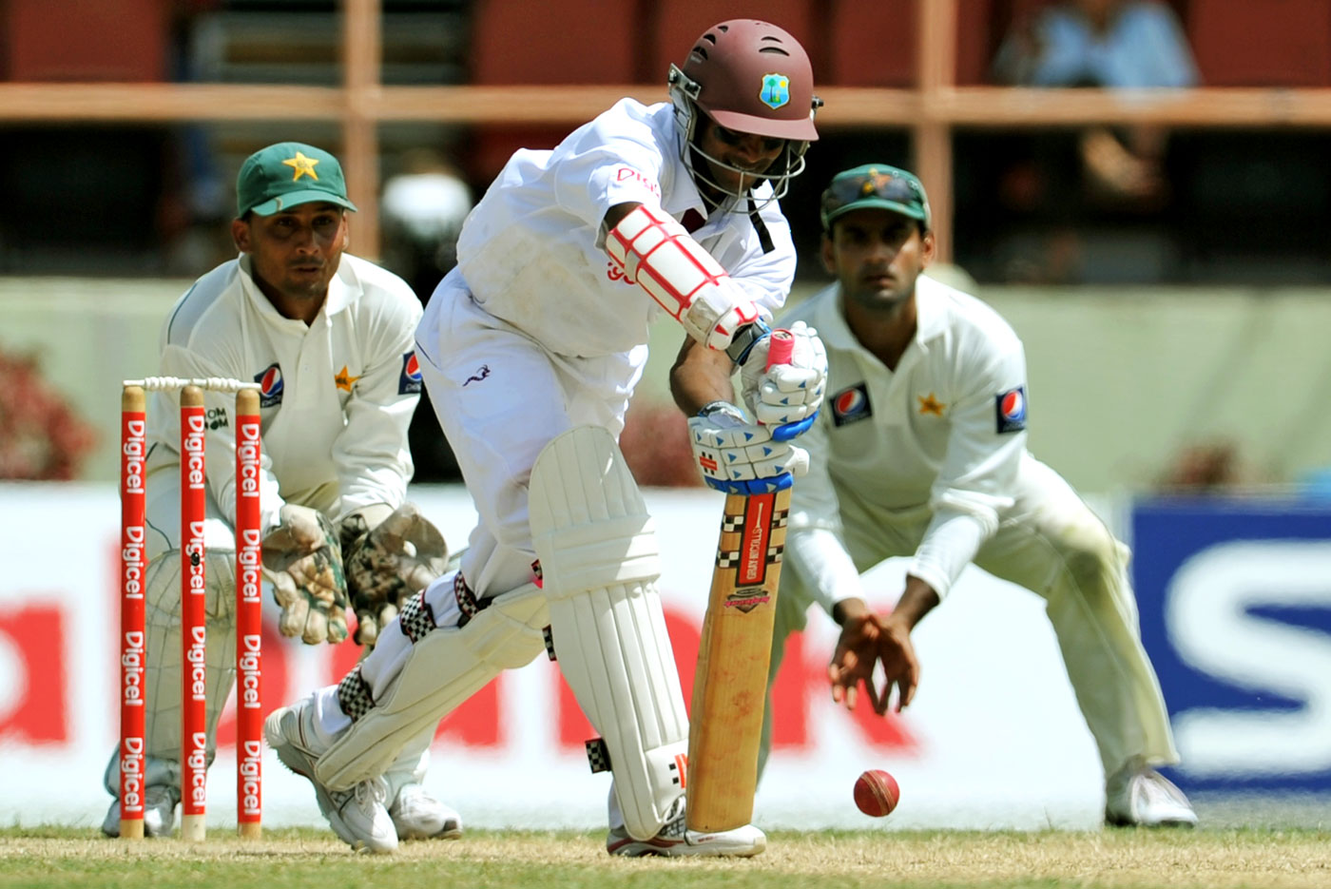Defence: (46, 11, 1161, 889)
